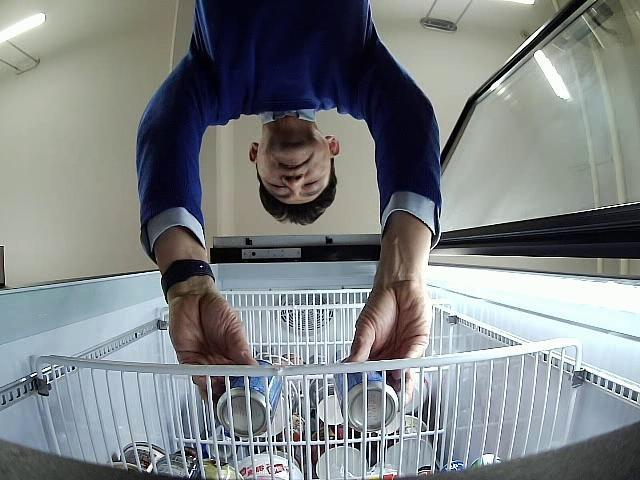15_letsbe: (216, 360, 282, 438), (334, 371, 398, 432)
